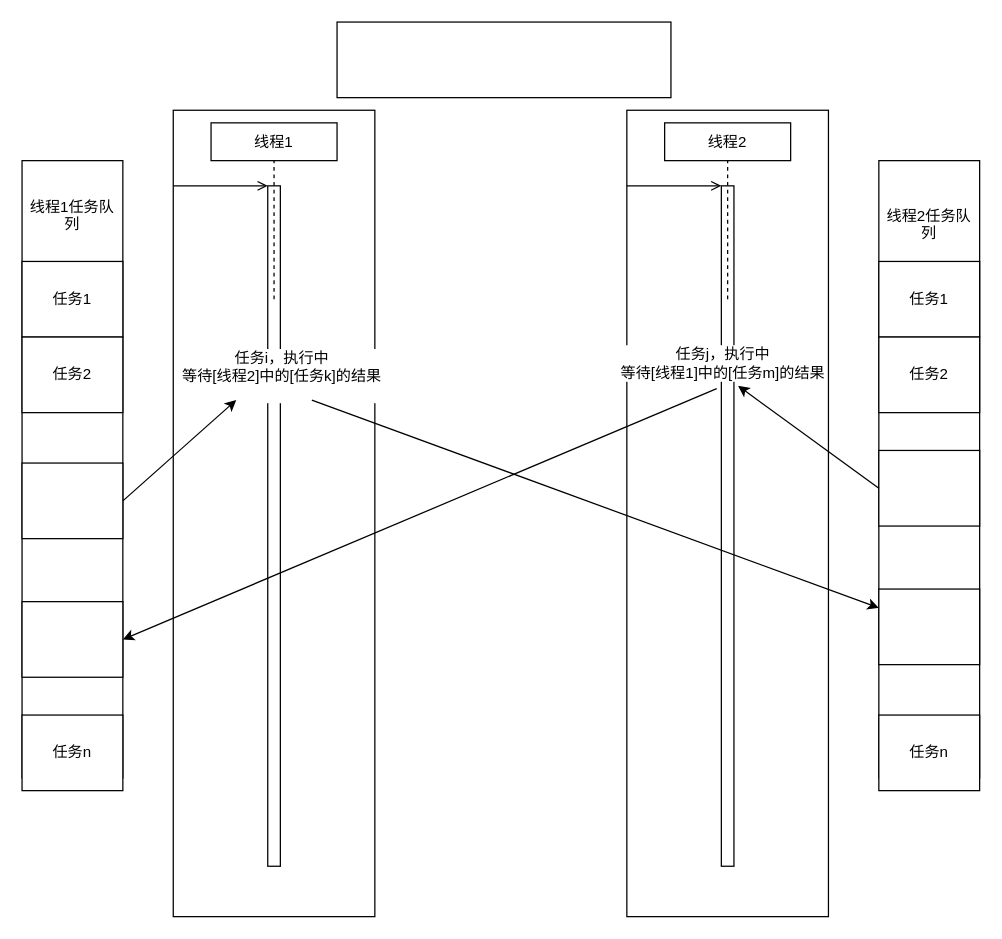
Some shapes in this 1002 by 939 pixel diagram are drawn without their labels. The shapes that lost their labels are listed below. From the top down, each one's centre as x and y in pixels, then its label:
(x=503, y=59): 相互等待执行结果造成的死锁说明
(x=72, y=500): 任务i
(x=929, y=487): 任务j
(x=72, y=638): 任务m
(x=929, y=626): 任务k
